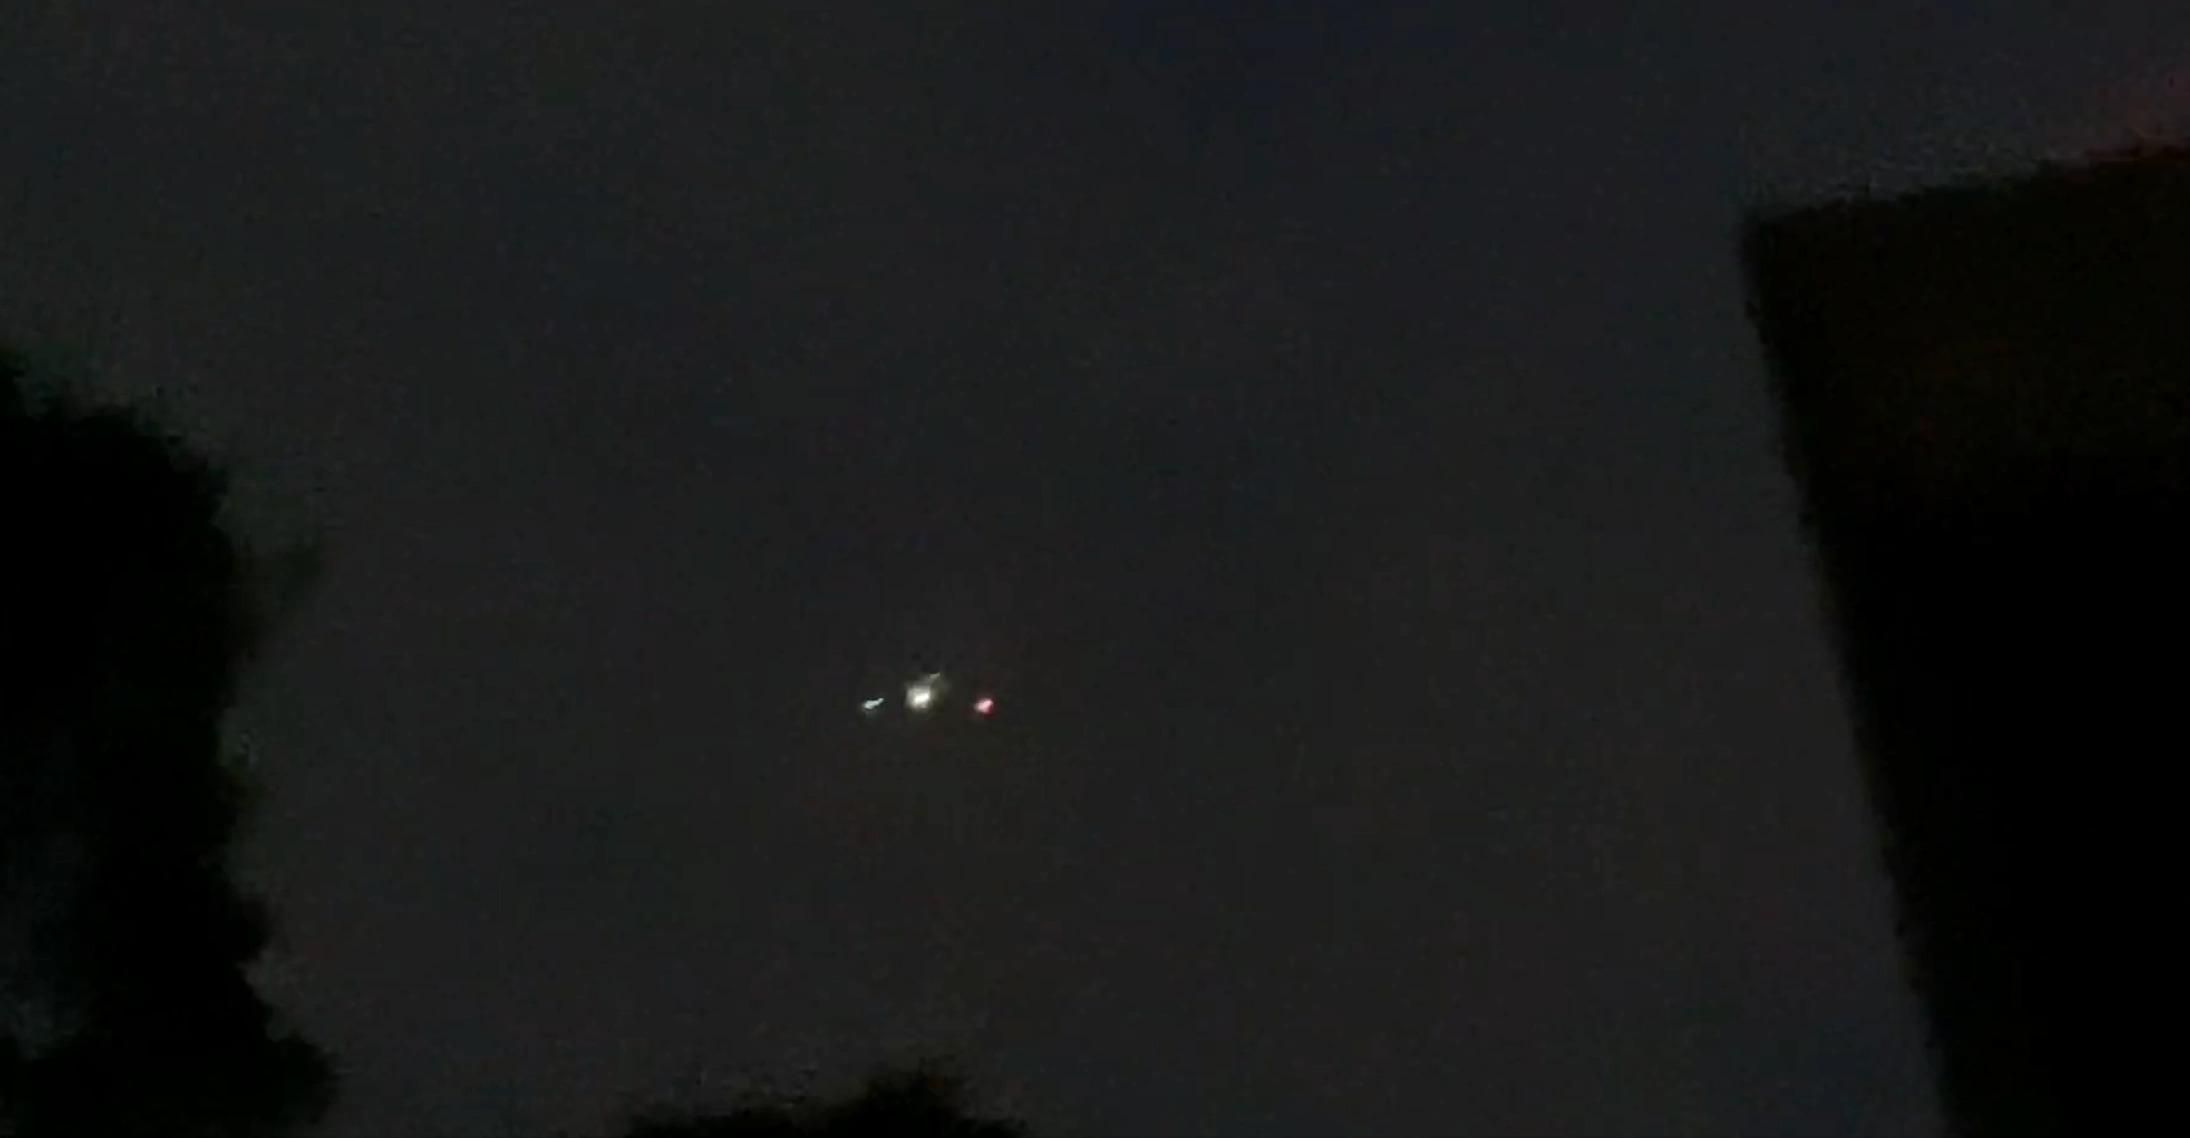Plane: (798, 644, 1063, 749)
